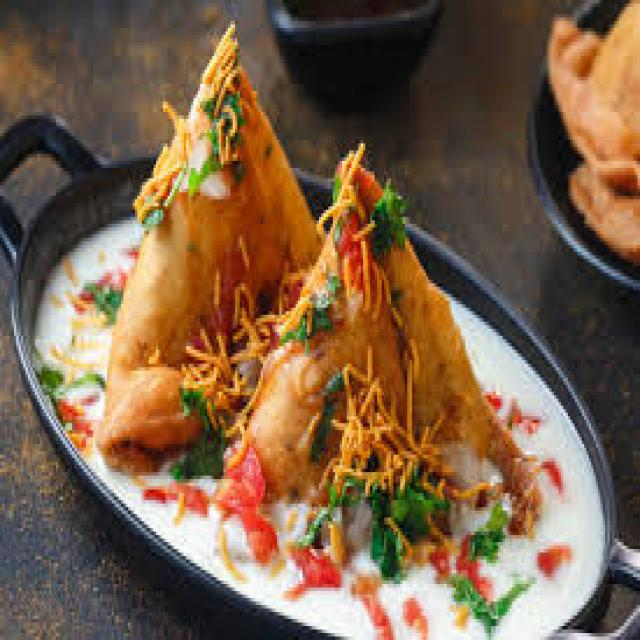SAMOSA: (232, 157, 545, 532), (101, 19, 323, 467)
